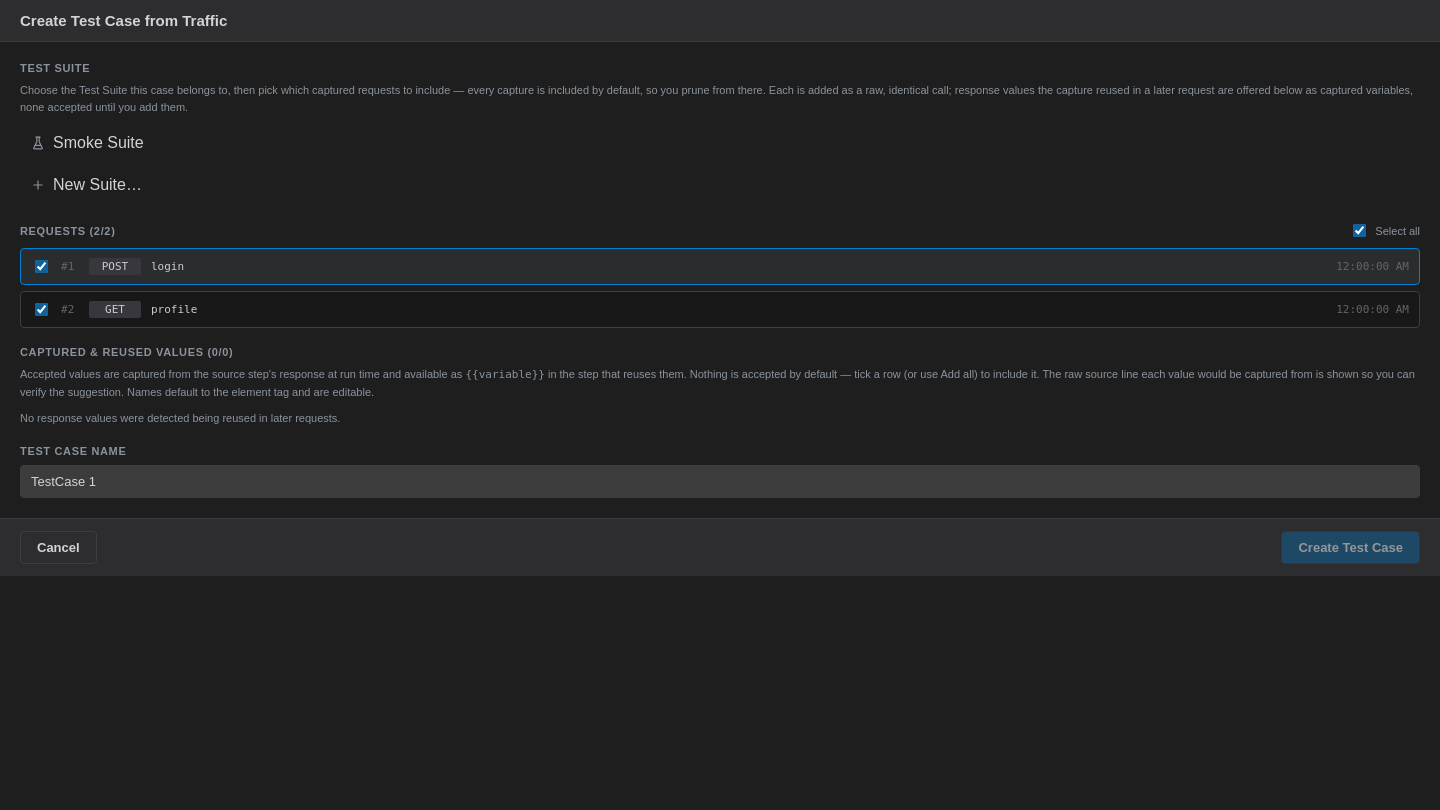
Test: CreateTestCaseFromTrafficWizard › unchecking the last selected request disables Create
Click the button "Smoke Suite" at (87, 142), box [31,134,144,151]
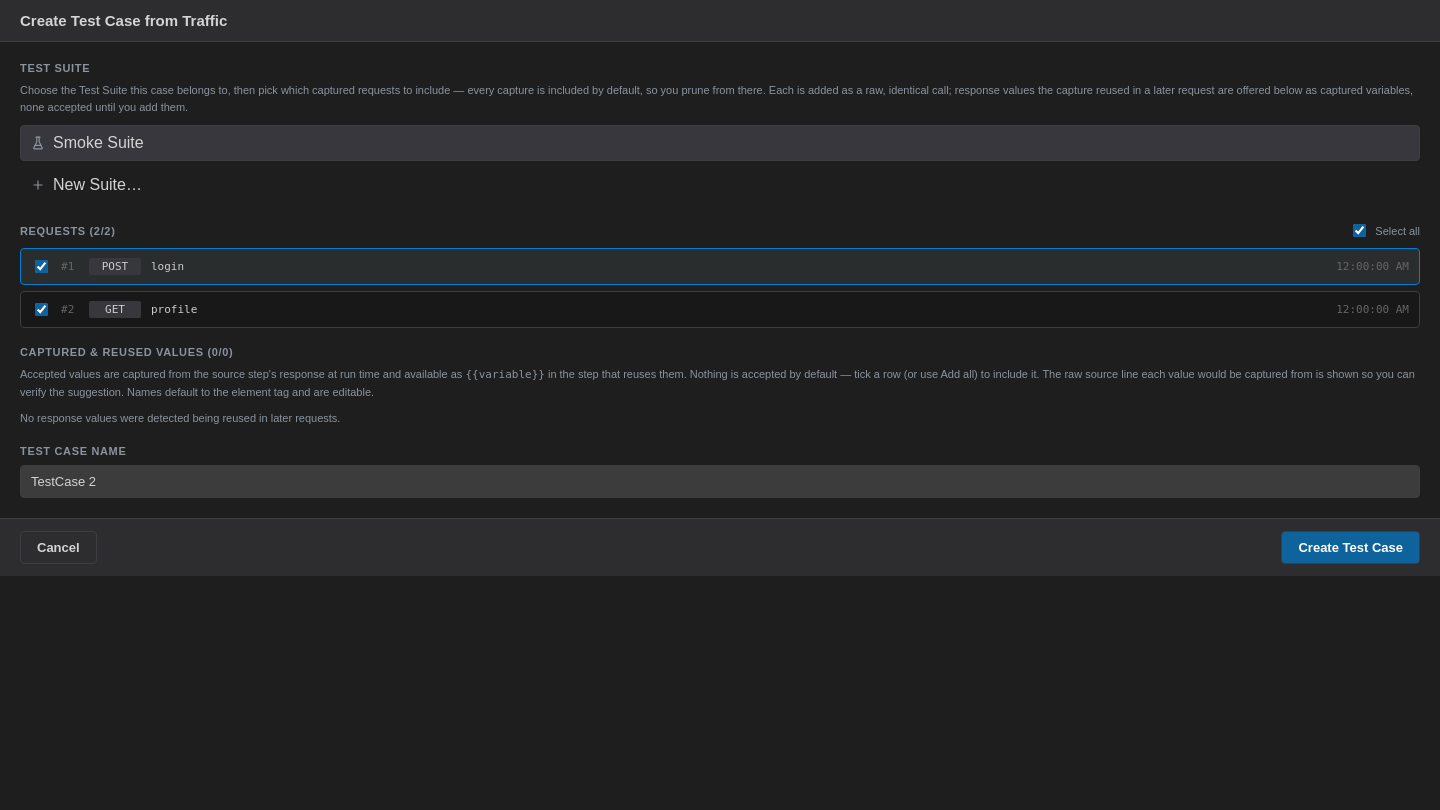
Click the checkbox named "POST /login" at (42, 266), box [35,260,48,273]
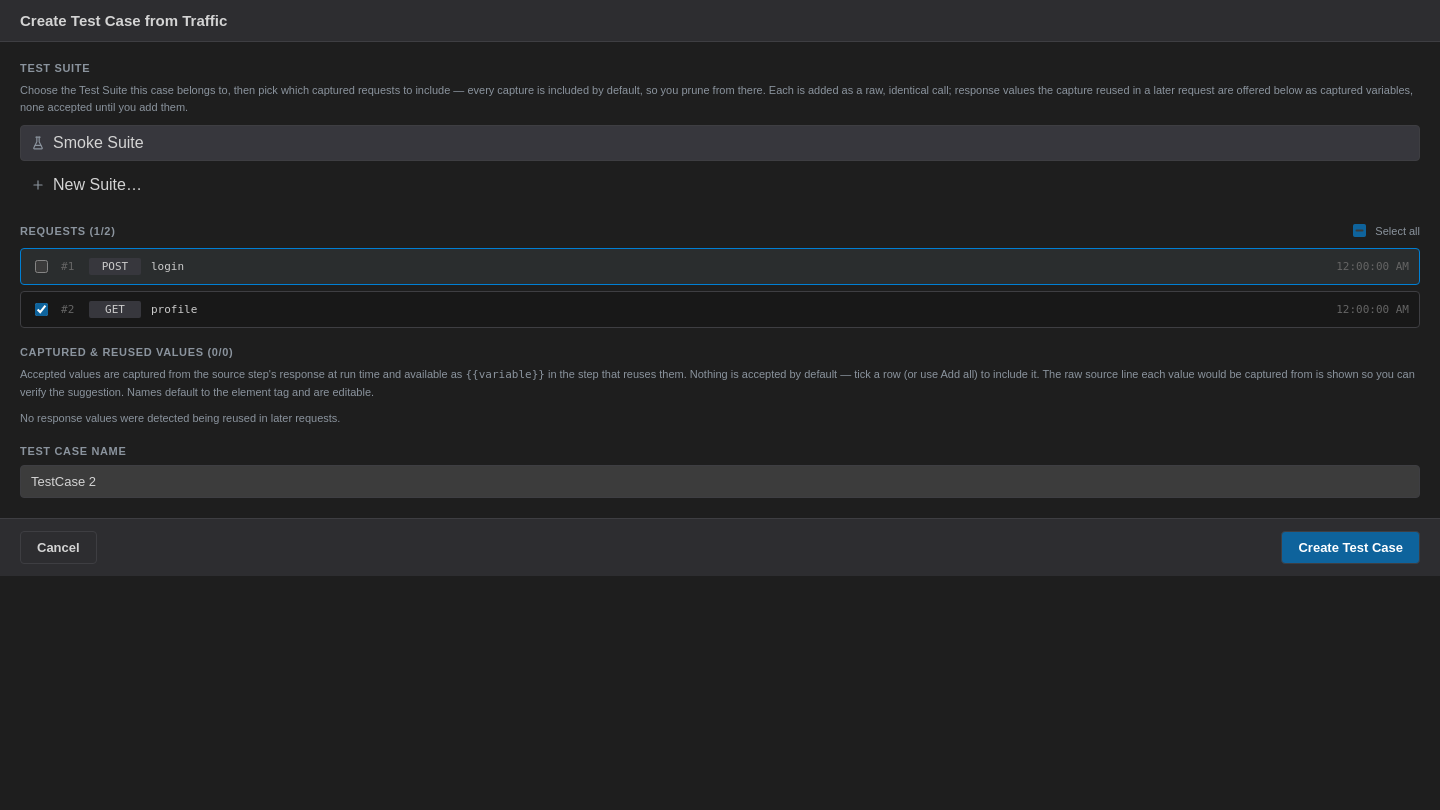
Click the checkbox named "GET /users/profile" at (42, 310), box [35,303,48,316]
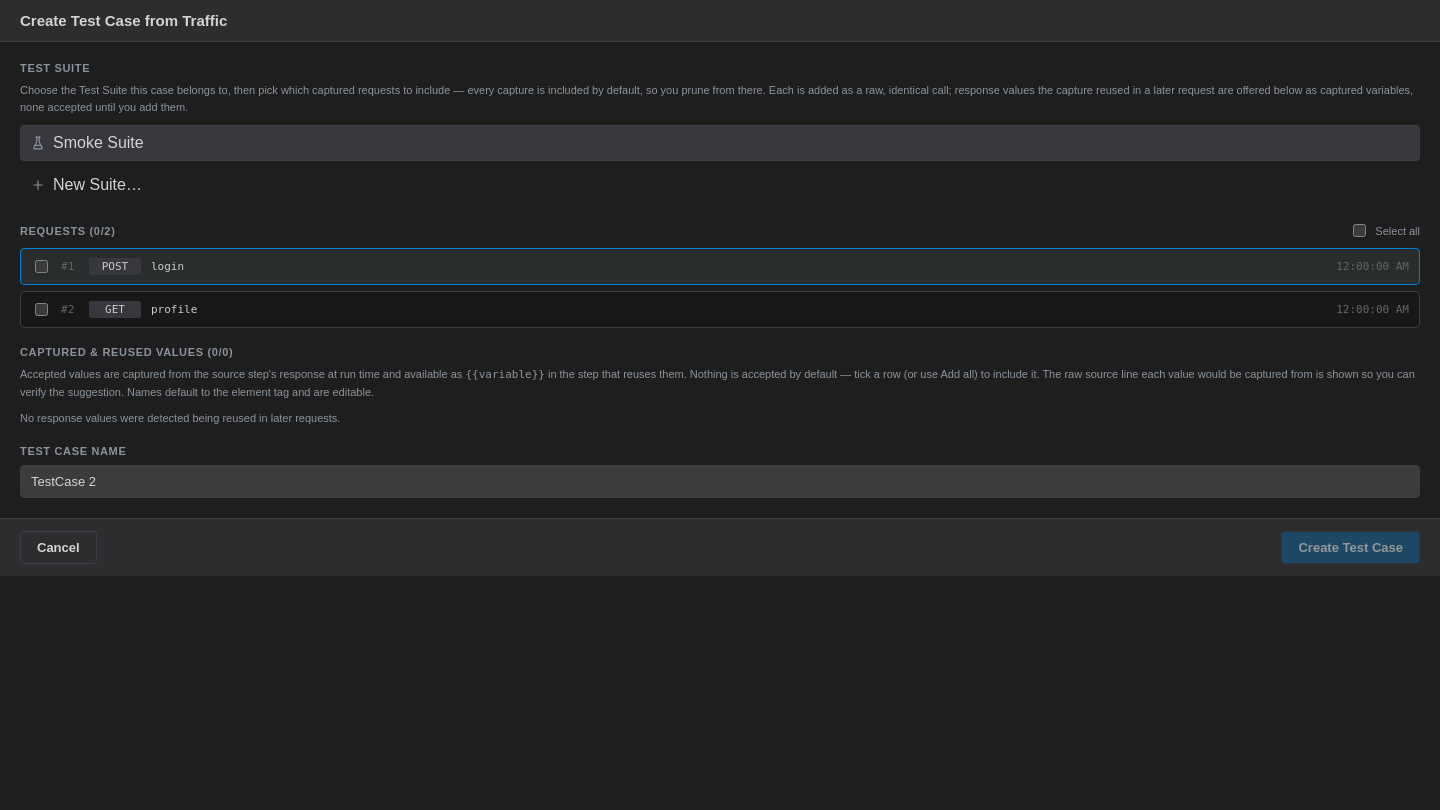
expect the button "Create Test Case" is disabled: met, box [1282,530,1420,564]
